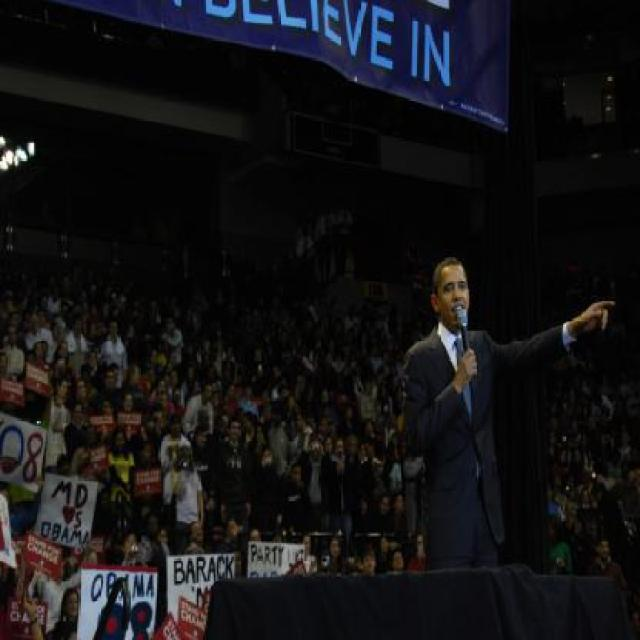Person: (0, 267, 431, 639), (401, 256, 616, 558), (548, 372, 638, 590)
